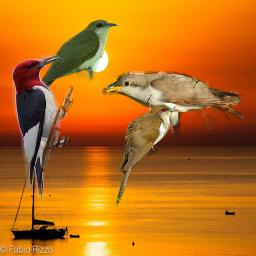Cuckoo: (17, 19, 118, 124), (102, 71, 244, 138), (116, 103, 178, 207)
Woodpecker: (12, 55, 73, 200)
